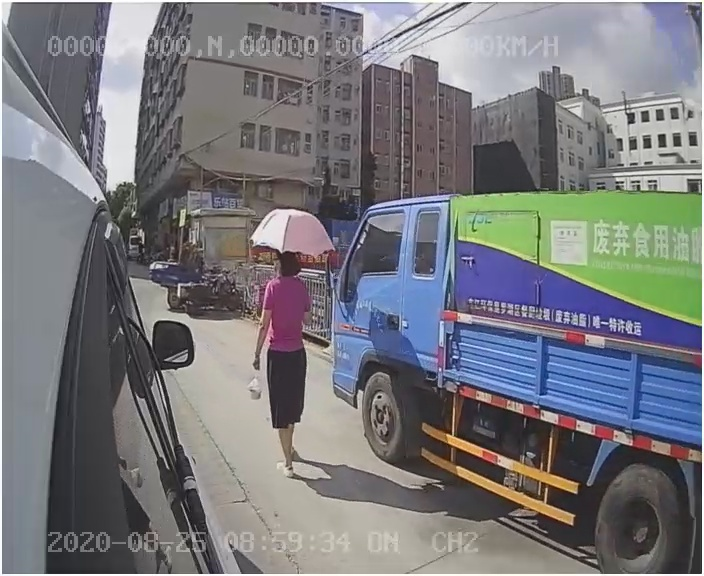person: (249, 251, 326, 482)
